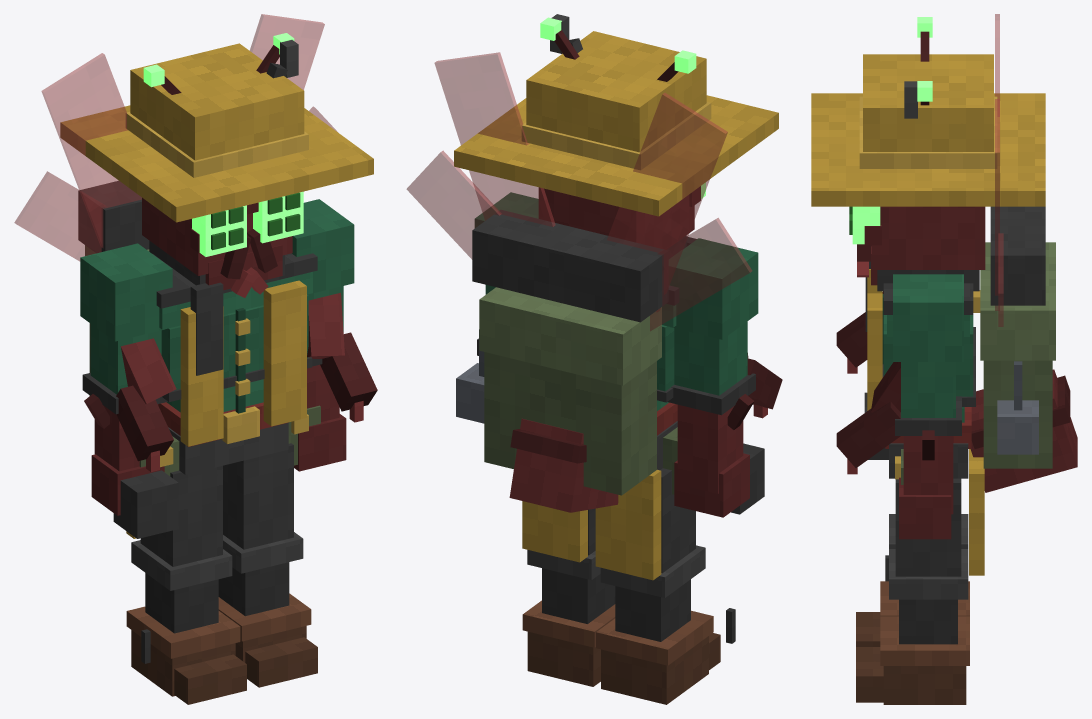
File: insectoid_marchand.glb
The picture shows the model from 3 angles, left to right: view 1: azimuth 30°, elevation 25°; view 2: azimuth 150°, elevation 25°; view 3: azimuth 270°, elevation 25°; orthographic projection. The views are drawn at different scales.
Visible parts, largest first — view 1: Torso, Head, LegR, LegL, ArmR, ArmL, HandR; view 2: Torso, Head, ArmR, LegR, LegL, HandR, ArmL; view 3: Head, Torso, ArmL, LegL, LegR.
Part boxes in pixels (bbox=[...]): Torso: bbox=[14, 14, 377, 538]; Head: bbox=[60, 33, 373, 297]; LegR: bbox=[126, 465, 246, 704]; LegL: bbox=[218, 443, 317, 687]; ArmR: bbox=[80, 243, 172, 515]; ArmL: bbox=[292, 199, 354, 471]; HandR: bbox=[113, 470, 178, 663]; Torso: bbox=[406, 52, 782, 580]; Head: bbox=[454, 14, 778, 258]; ArmR: bbox=[667, 238, 758, 517]; LegR: bbox=[596, 468, 720, 704]; LegL: bbox=[522, 508, 615, 686]; HandR: bbox=[726, 443, 764, 643]; ArmL: bbox=[474, 192, 538, 355]; Head: bbox=[811, 17, 1045, 291]; Torso: bbox=[836, 14, 1077, 575]; ArmL: bbox=[893, 274, 963, 539]; LegL: bbox=[856, 478, 969, 704]; LegR: bbox=[856, 514, 969, 646].
Bounding box in the file's own units: 1.12 × 1.98 × 0.7727.
33 materials, 33 textured.
